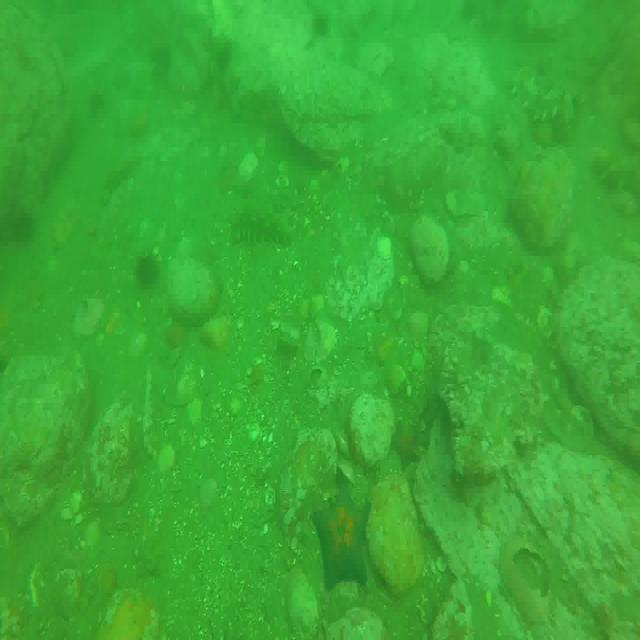echinus: (137, 247, 162, 289), (12, 206, 38, 244)
holothurian: (515, 67, 576, 125), (227, 207, 295, 248)
starfish: (314, 476, 368, 591), (390, 421, 422, 468)
